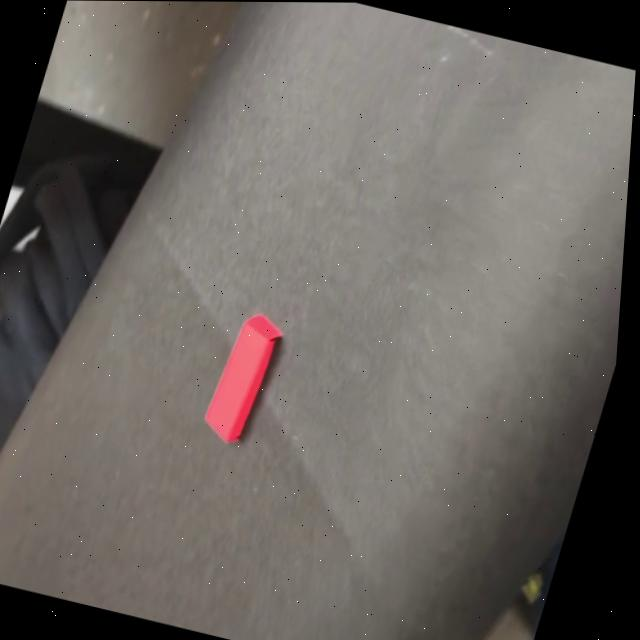red block: (194, 306, 287, 450)
